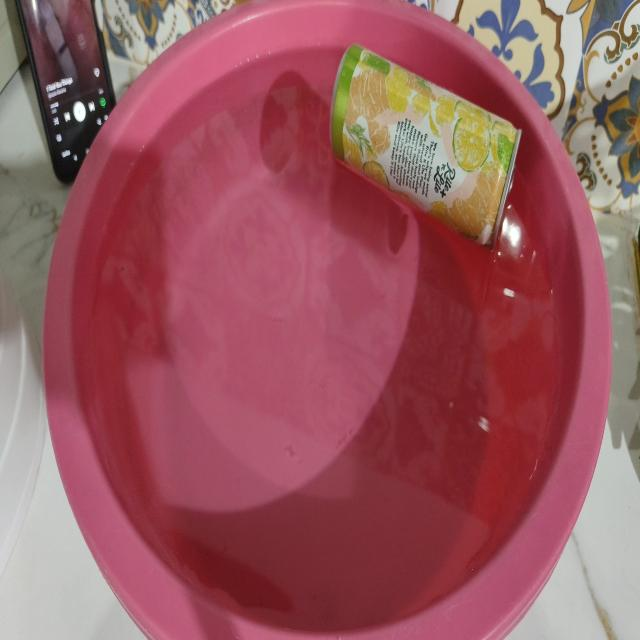Aluminum Can: (331, 45, 521, 248)
